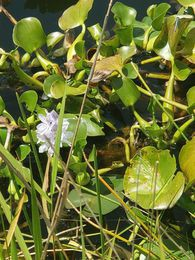water_hyacinth: (1, 1, 194, 209)
